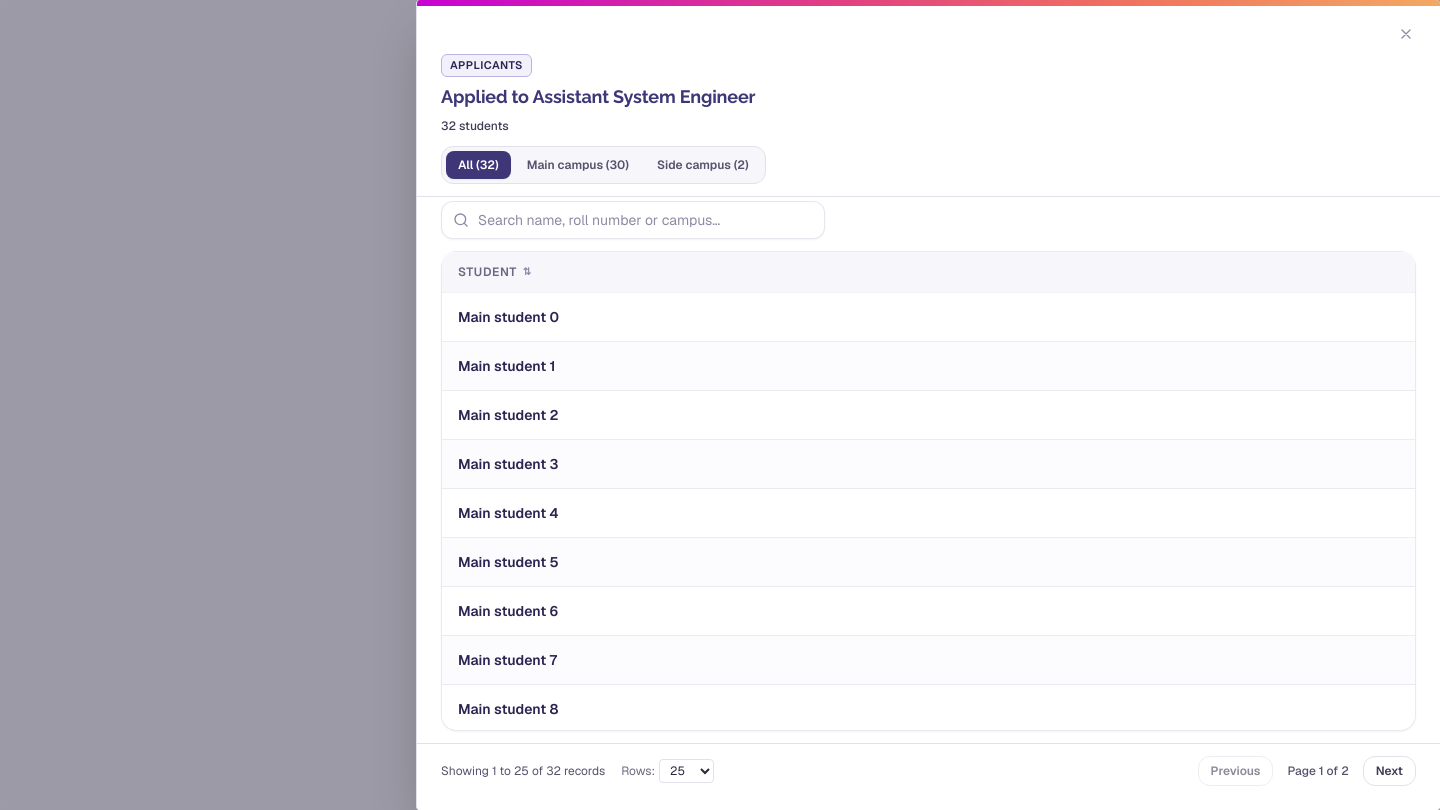
Test: the count→who popup › starts a smaller group at page one instead of showing an empty page
Click the button "Next". click: coordinates (1389, 771)
box: left=1363, top=756, right=1416, bottom=786
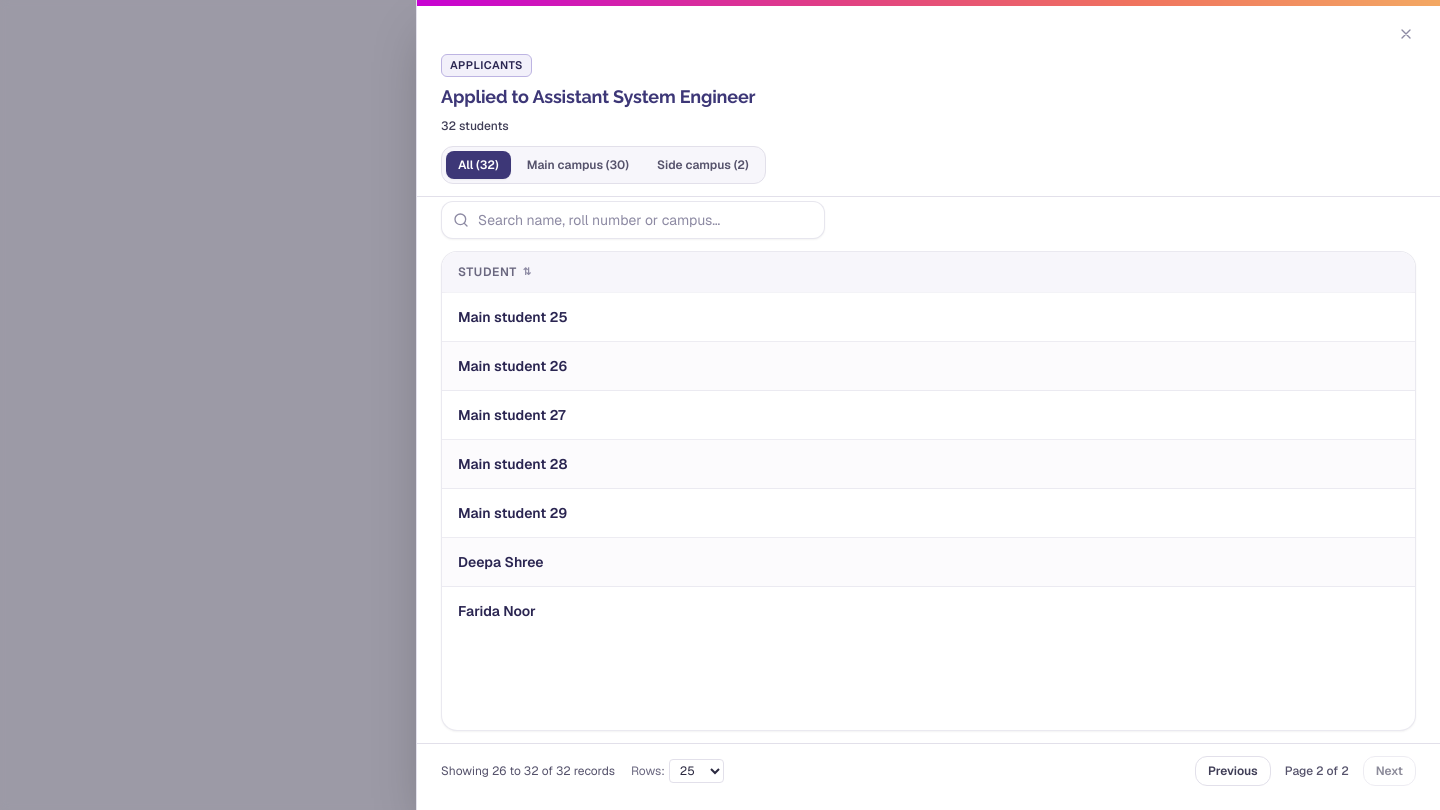
Expected: the text "Page 2 of 2" is shown, left=1285, top=763, right=1349, bottom=779
Click the tab "Side campus (2)". click: coordinates (703, 165)
box: left=645, top=151, right=761, bottom=179
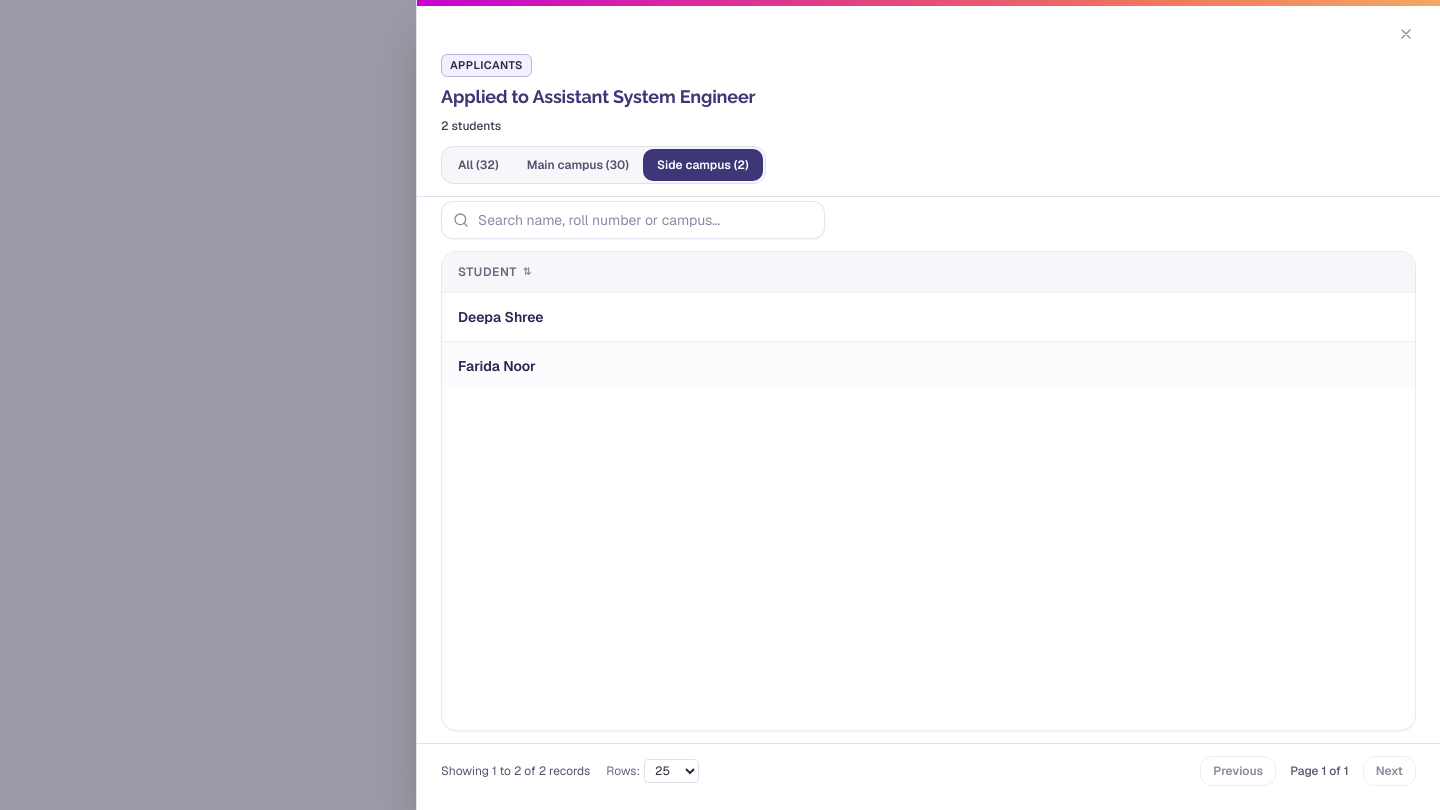
Expected: the link "Deepa Shree" is shown, left=458, top=308, right=544, bottom=326
Expected: the text "2 students" is shown, left=441, top=118, right=501, bottom=134
Expected: the text "Page 1 of 1" is shown, left=1290, top=763, right=1349, bottom=779
